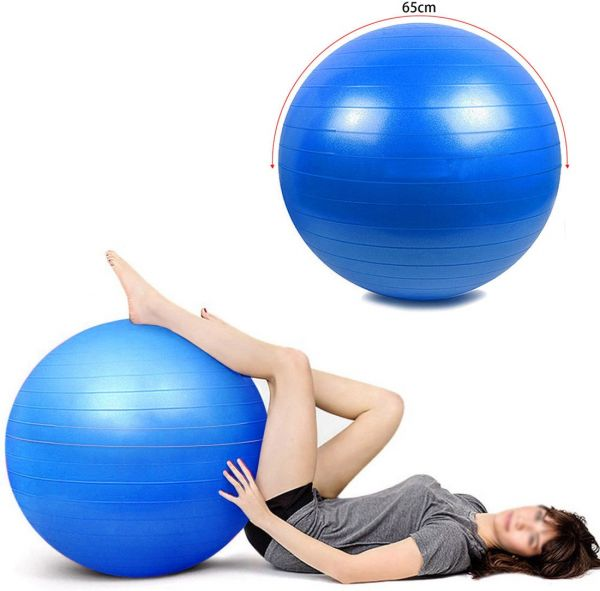blue ball: (277, 23, 563, 303), (4, 318, 266, 578)
